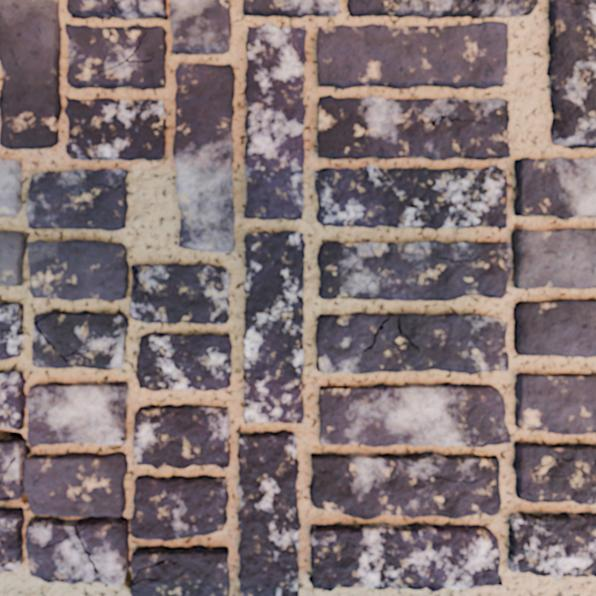brick: (317, 228, 595, 300), (0, 439, 127, 583), (309, 523, 502, 591), (317, 21, 507, 88), (310, 452, 500, 519), (317, 95, 509, 160), (319, 382, 510, 446), (244, 24, 305, 219), (315, 166, 506, 228), (243, 231, 304, 422), (173, 63, 234, 252), (316, 313, 507, 373), (238, 431, 300, 595), (0, 371, 127, 445), (0, 0, 60, 148), (0, 231, 128, 300), (547, 0, 595, 148), (66, 24, 166, 88), (130, 475, 227, 540), (65, 98, 165, 160), (26, 169, 127, 230), (133, 405, 229, 468), (130, 264, 229, 324), (508, 512, 595, 578), (32, 311, 128, 369), (136, 332, 231, 390), (513, 443, 595, 504), (514, 157, 595, 218), (131, 545, 229, 595), (515, 374, 595, 434), (513, 299, 595, 357), (347, 0, 536, 18), (170, 0, 230, 54), (67, 0, 167, 19), (243, 0, 338, 17), (0, 508, 24, 570), (0, 303, 23, 359), (0, 159, 21, 216), (570, 0, 595, 7), (34, 313, 47, 320)
crack: (114, 514, 189, 595), (33, 312, 93, 363), (130, 264, 151, 301), (459, 433, 504, 447), (564, 0, 595, 20), (0, 456, 16, 484), (0, 493, 29, 504), (0, 428, 23, 440), (25, 444, 31, 455), (87, 515, 102, 519), (118, 435, 124, 444), (271, 25, 273, 31)
